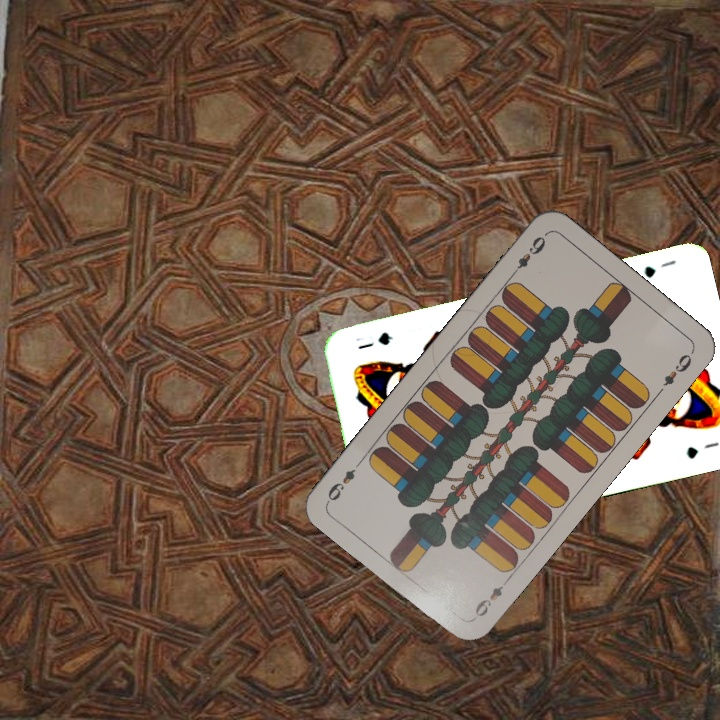E9: (507, 230, 549, 279), (470, 574, 513, 620)
GU: (640, 256, 679, 280)
